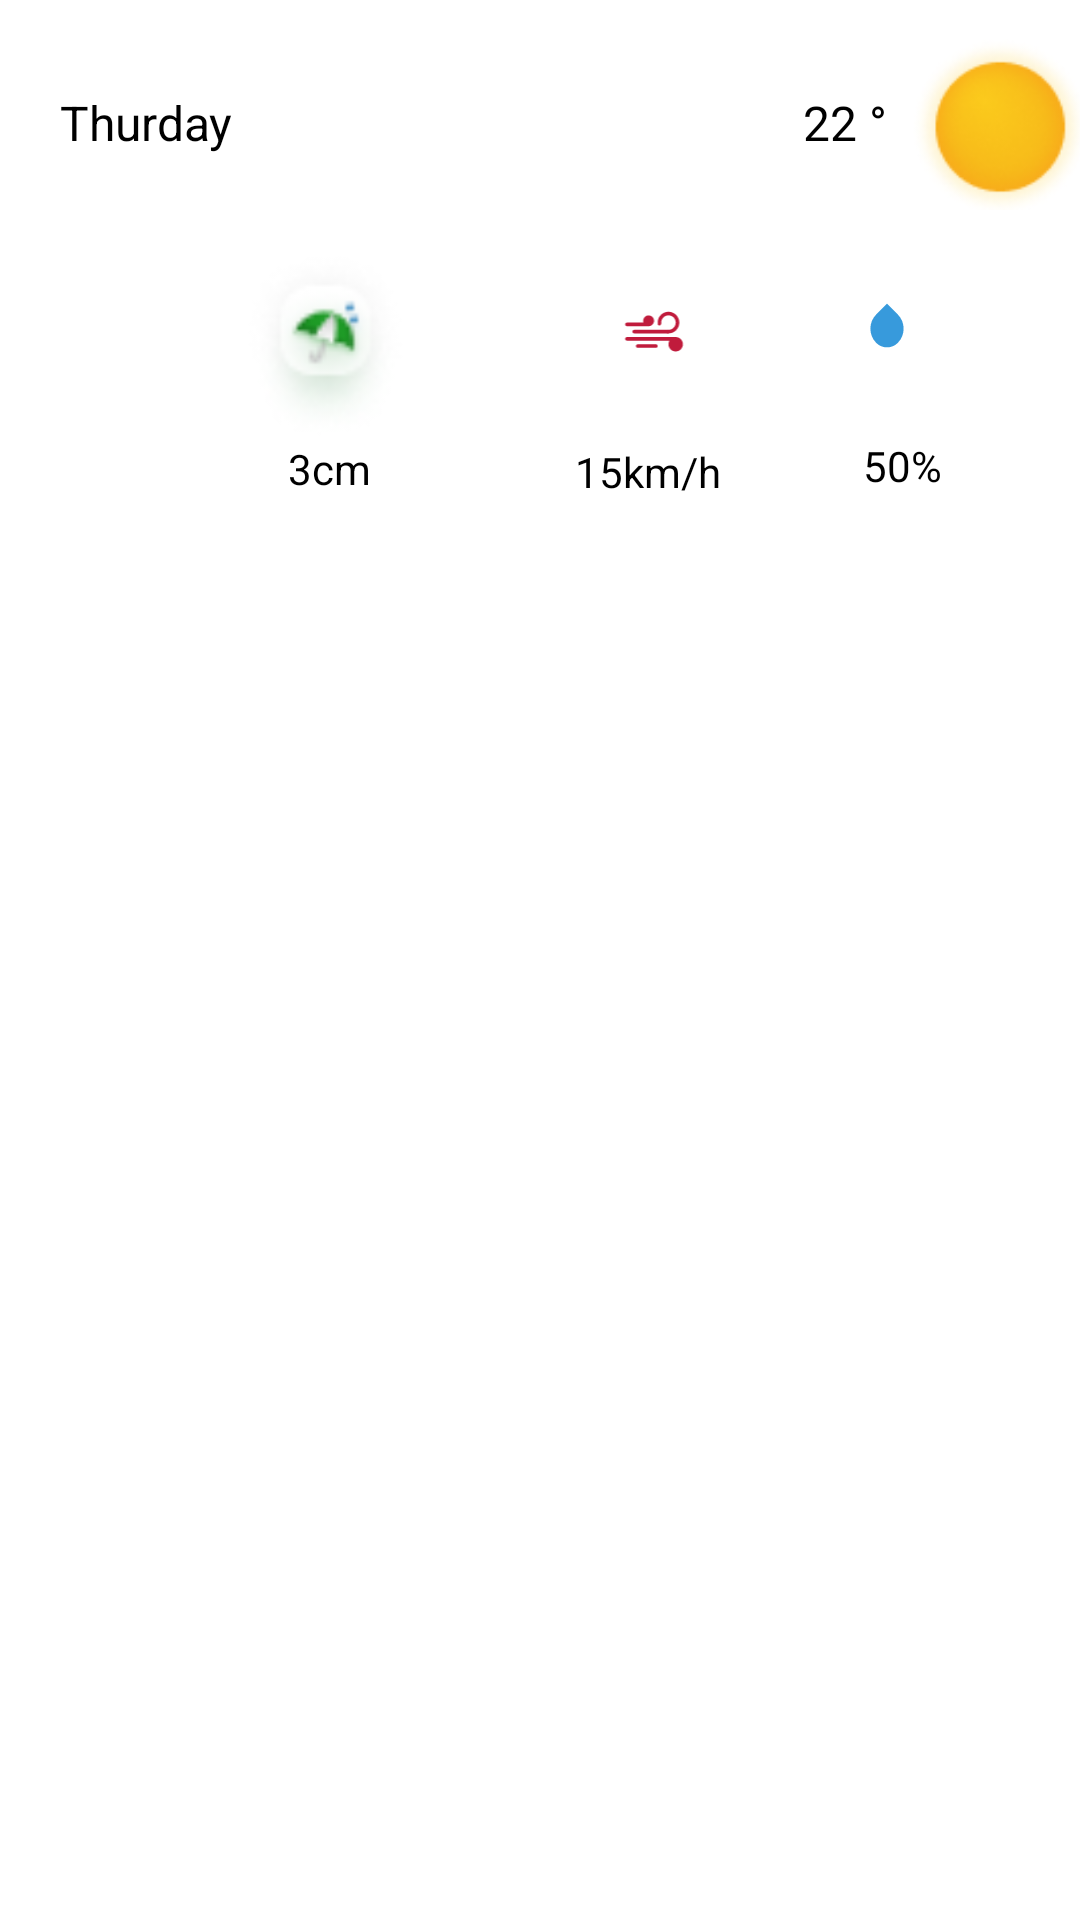

Icons on this 1080*1920 Android screen, each with the point to tap as point (x, y):
humidity: point (887, 326)
sunny: point (1000, 127)
wind: point (654, 331)
